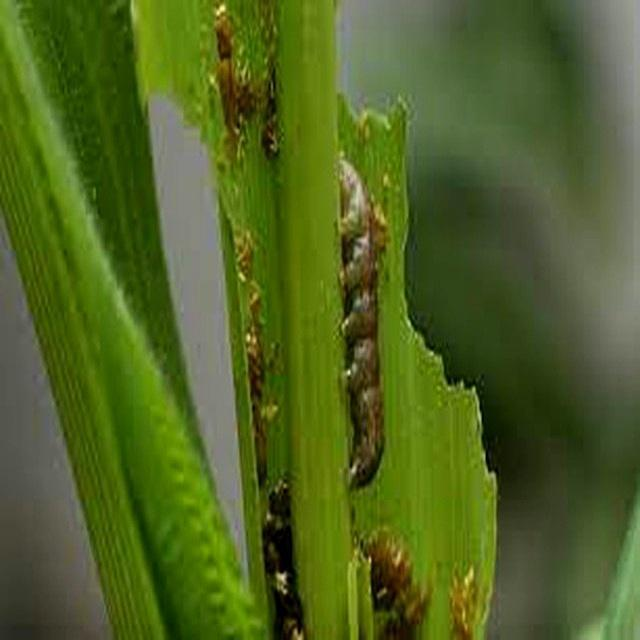gusano_cogollero: (338, 149, 390, 492)
